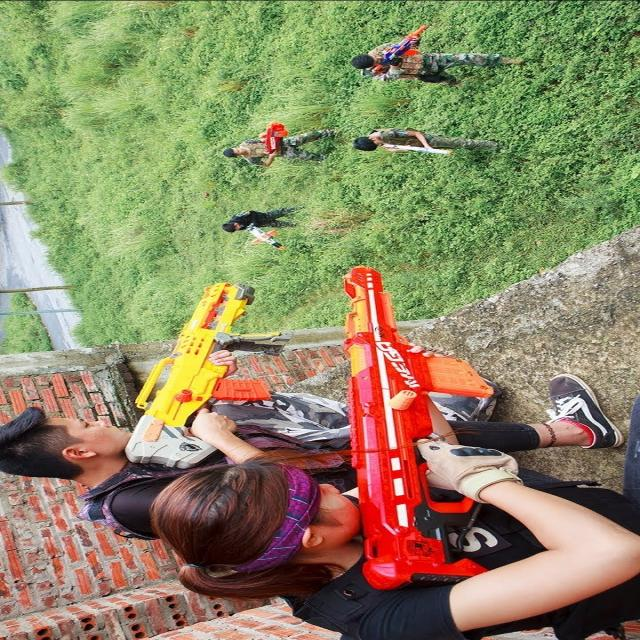Nerf gun: (332, 262, 498, 597), (118, 276, 282, 471), (364, 21, 438, 79), (377, 136, 459, 160), (241, 220, 296, 254), (252, 118, 294, 156)
